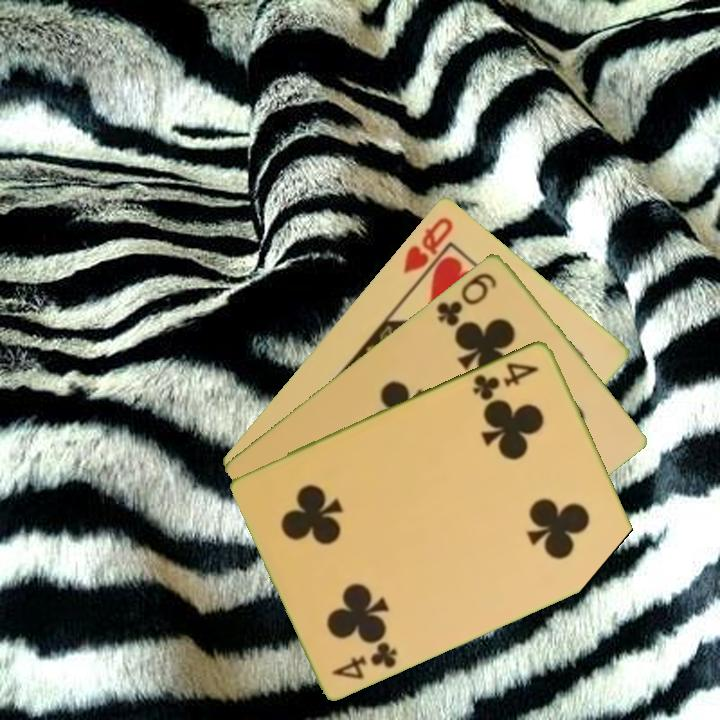4c: (328, 637, 401, 682), (469, 358, 541, 403)
6c: (433, 268, 500, 329)
Qh: (399, 213, 456, 276)
